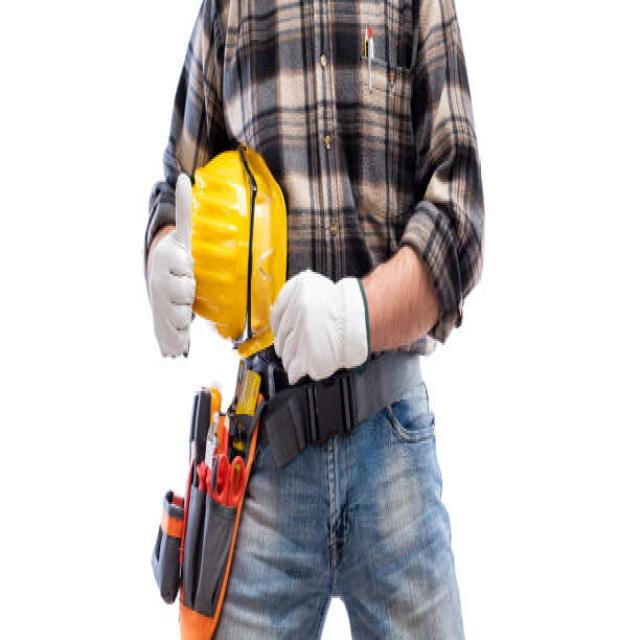gloves: (271, 268, 370, 382), (148, 178, 196, 356)
